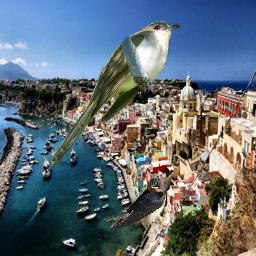Cuckoo: (48, 20, 182, 170)
Swallow: (103, 178, 166, 228)
